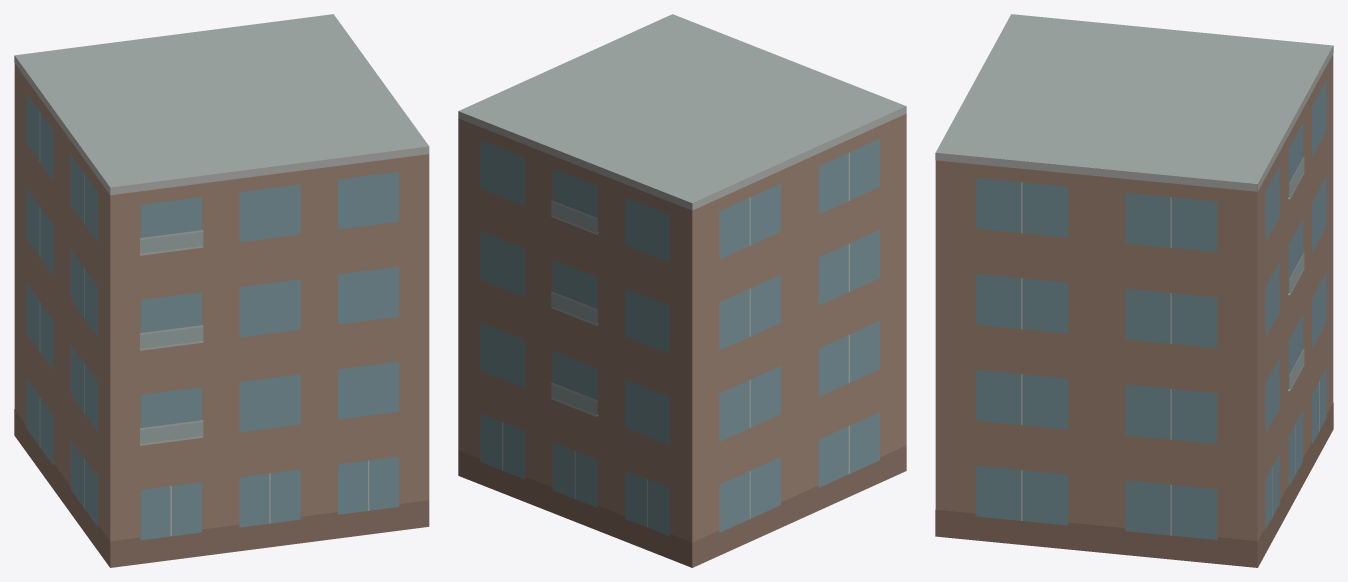
The model's file is residential-68aa029e-a11d-483b-8a59-745272e62bfe.glb.
The picture shows the model from 3 angles, left to right: view 1: azimuth 30°, elevation 25°; view 2: azimuth 150°, elevation 25°; view 3: azimuth 270°, elevation 25°; orthographic projection. The views are drawn at different scales.
Parts seen in each view (by area): view 1: residential-68aa029e-a11d-483b-8a59-745272e62bfe.tmp; view 2: residential-68aa029e-a11d-483b-8a59-745272e62bfe.tmp; view 3: residential-68aa029e-a11d-483b-8a59-745272e62bfe.tmp.
Boxes of the visible parts, box(x1,y1,x2,y2) form: residential-68aa029e-a11d-483b-8a59-745272e62bfe.tmp: box(14, 14, 429, 567); residential-68aa029e-a11d-483b-8a59-745272e62bfe.tmp: box(458, 14, 906, 567); residential-68aa029e-a11d-483b-8a59-745272e62bfe.tmp: box(935, 14, 1333, 567).
Size of the model in its own units: 11.61 by 12.2 by 11.48.
